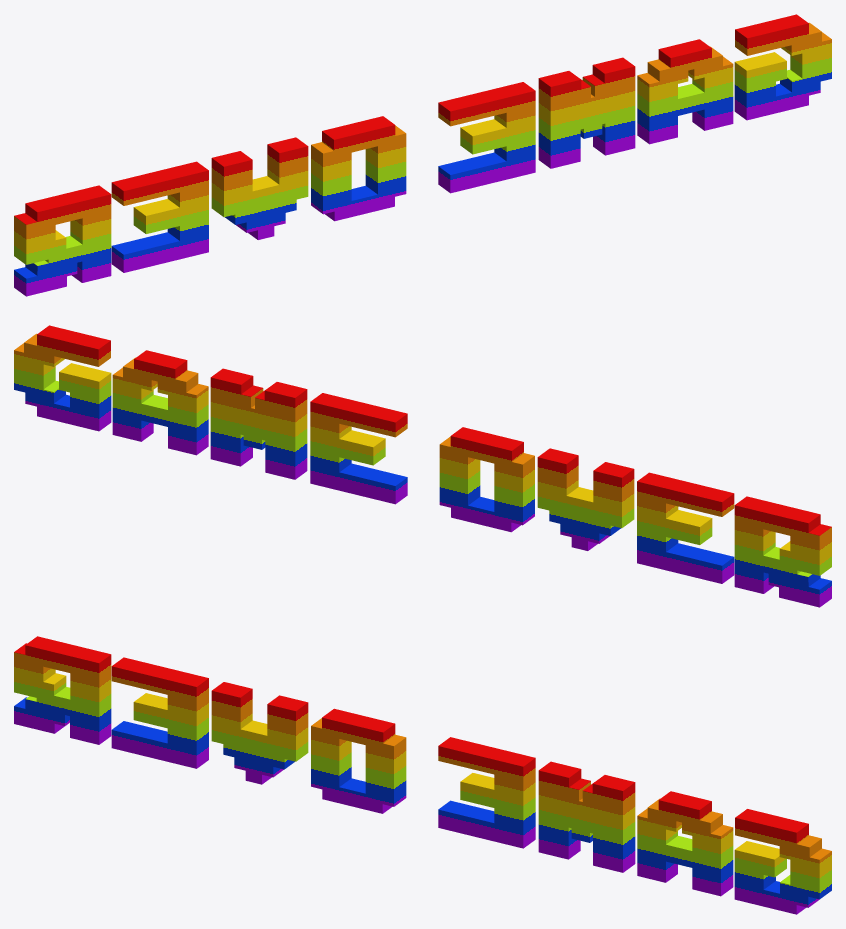
File: GameOver.fbx
The picture shows the model from 3 angles, top to bottom: view 1: azimuth 30°, elevation 25°; view 2: azimuth 150°, elevation 25°; view 3: azimuth 330°, elevation 25°; orthographic projection.
Visible parts, largest first — view 1: GameOver; view 2: GameOver; view 3: GameOver.
Part boxes in pixels (x1=…): GameOver: x1=14, y1=14, x2=831, y2=296; GameOver: x1=14, y1=325, x2=831, y2=607; GameOver: x1=14, y1=636, x2=831, y2=914.
Size of the model in its own units: 927 by 90.82 by 24.3.
